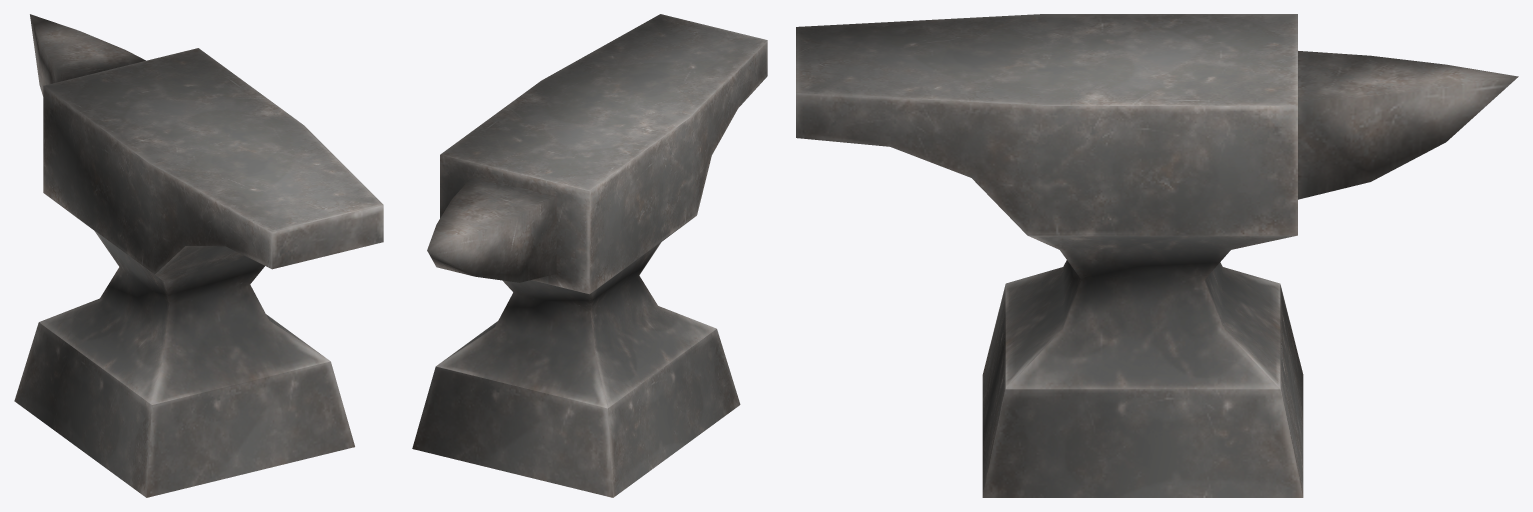
Rendered from anvil_01.fbx.
The picture shows the model from 3 angles, left to right: view 1: azimuth 30°, elevation 25°; view 2: azimuth 150°, elevation 25°; view 3: azimuth 270°, elevation 25°; orthographic projection. The views are drawn at different scales.
Visible parts, largest first — view 1: anvil_01; view 2: anvil_01; view 3: anvil_01.
Boxes of the visible parts, x1,y1,x2,y2 form: anvil_01: [14, 14, 383, 497]; anvil_01: [412, 14, 767, 497]; anvil_01: [796, 14, 1518, 497].
Bounding box in the file's own units: 58 × 82.41 × 143.
